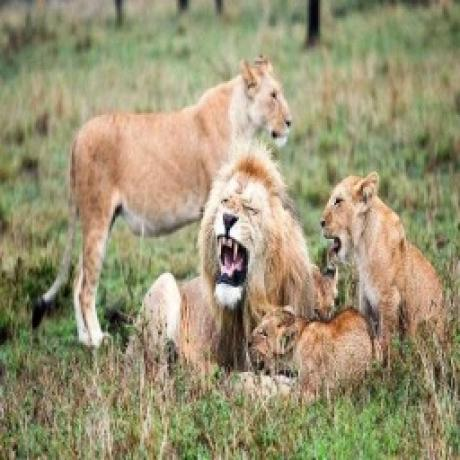Lion: (28, 53, 297, 347), (129, 158, 332, 373), (321, 169, 452, 329), (246, 309, 384, 395)
